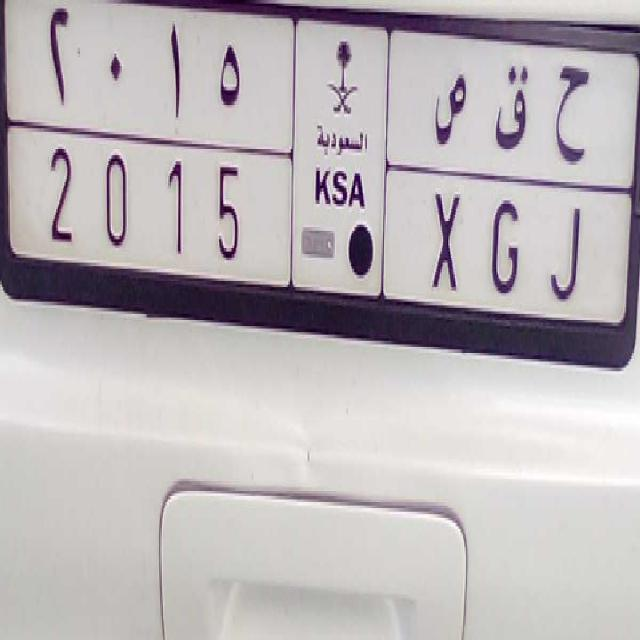license_plate: (44, 132, 586, 322)
